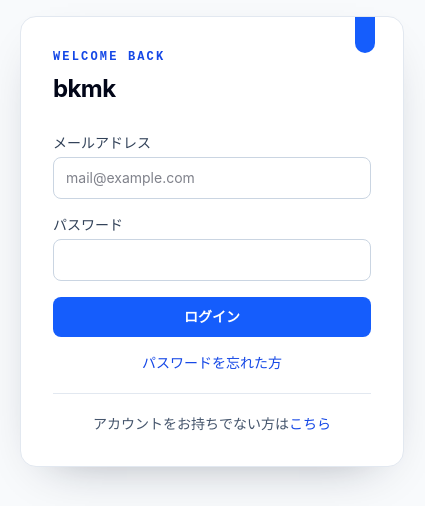
LoginPage › 未確認ログイン時に配送結果を断定せず次の操作を案内する
The image size is (425, 506).
Type "waiting@example.com" into the field labelled "メールアドレス" at (212, 178), box [53,156,371,198]
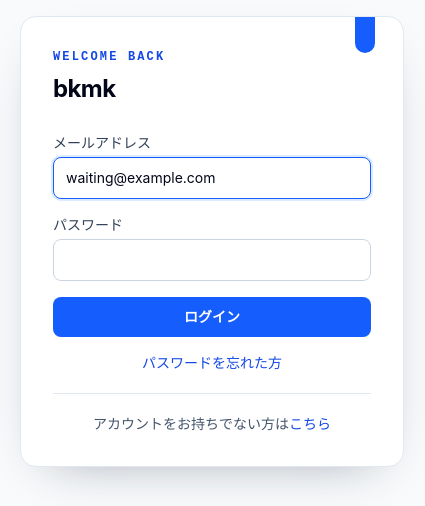
Type "password1234" into the password field labelled "パスワード" at (212, 260), box [53,238,371,280]
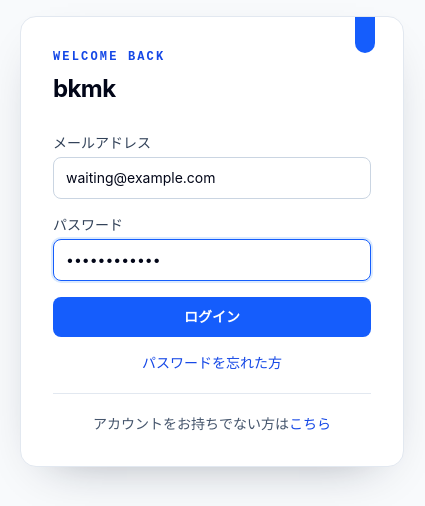
Click the button "ログイン" at (212, 316), box [53,296,371,336]
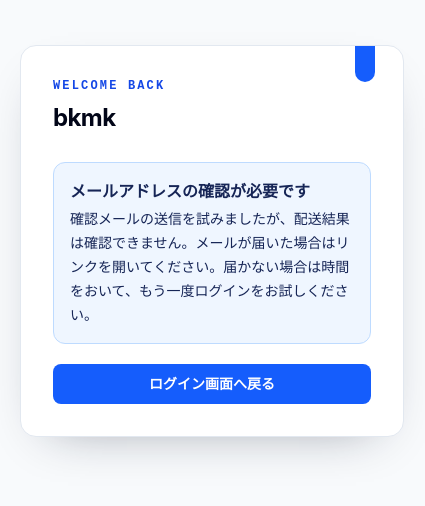
Check: the text "メールアドレスの確認が必要です" is shown, box [70,181,310,201]
Check: the text "時間をおいて、もう一度ログイン" is shown, box [70,210,350,323]
